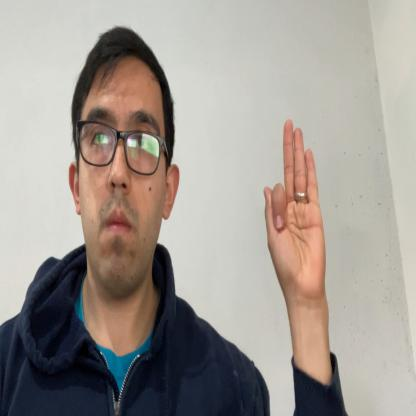F: (264, 118, 326, 300)
